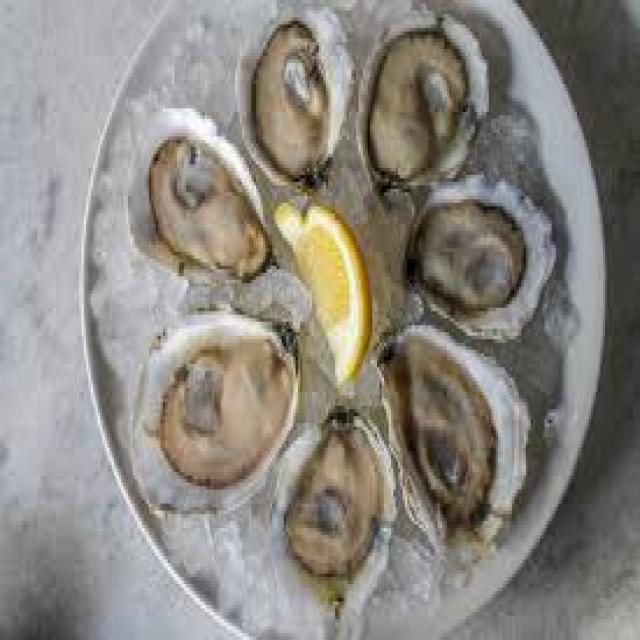Lemon: (292, 205, 374, 378)
Oysters: (130, 308, 294, 518), (380, 326, 526, 552), (274, 412, 396, 623), (408, 175, 554, 335), (128, 109, 260, 284), (359, 11, 488, 184), (236, 2, 353, 180)
